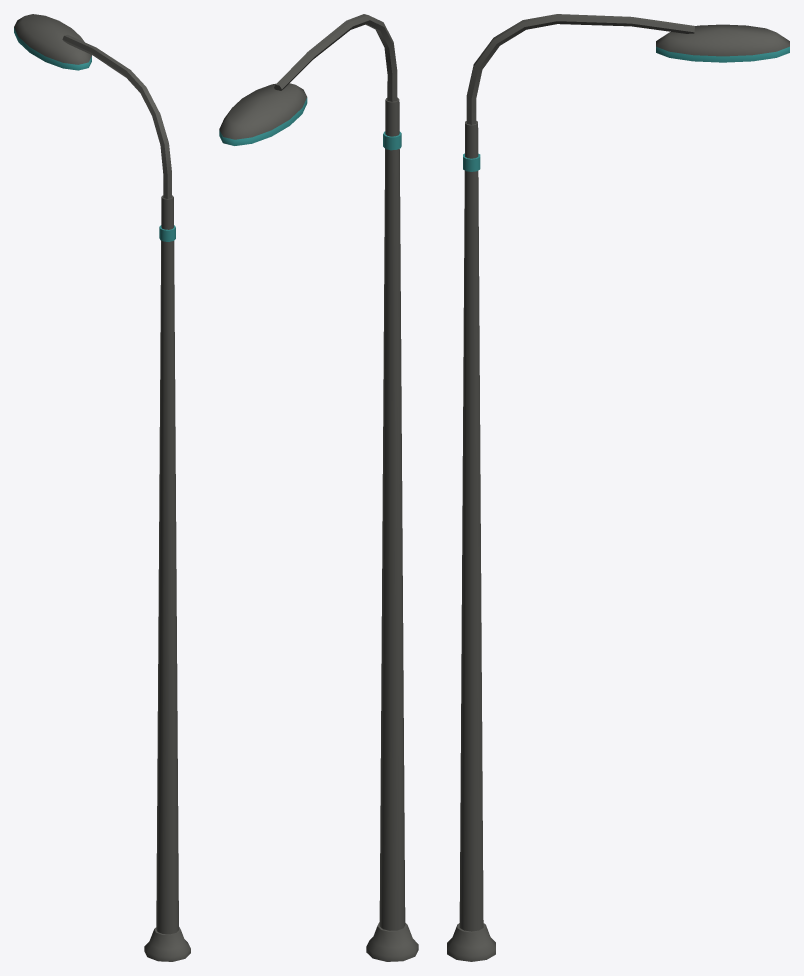
Rendered from street_lamp.glb.
The picture shows the model from 3 angles, left to right: view 1: azimuth 30°, elevation 25°; view 2: azimuth 150°, elevation 25°; view 3: azimuth 270°, elevation 25°; orthographic projection. The views are drawn at different scales.
Parts seen in each view (by area): view 1: street_lamp; view 2: street_lamp; view 3: street_lamp.
Boxes of the visible parts, x1=… form: street_lamp: x1=14, y1=14, x2=190, y2=961; street_lamp: x1=219, y1=14, x2=418, y2=961; street_lamp: x1=447, y1=14, x2=789, y2=961.
Bounding box in the file's own units: 0.0325 × 0.5649 × 0.1874.
